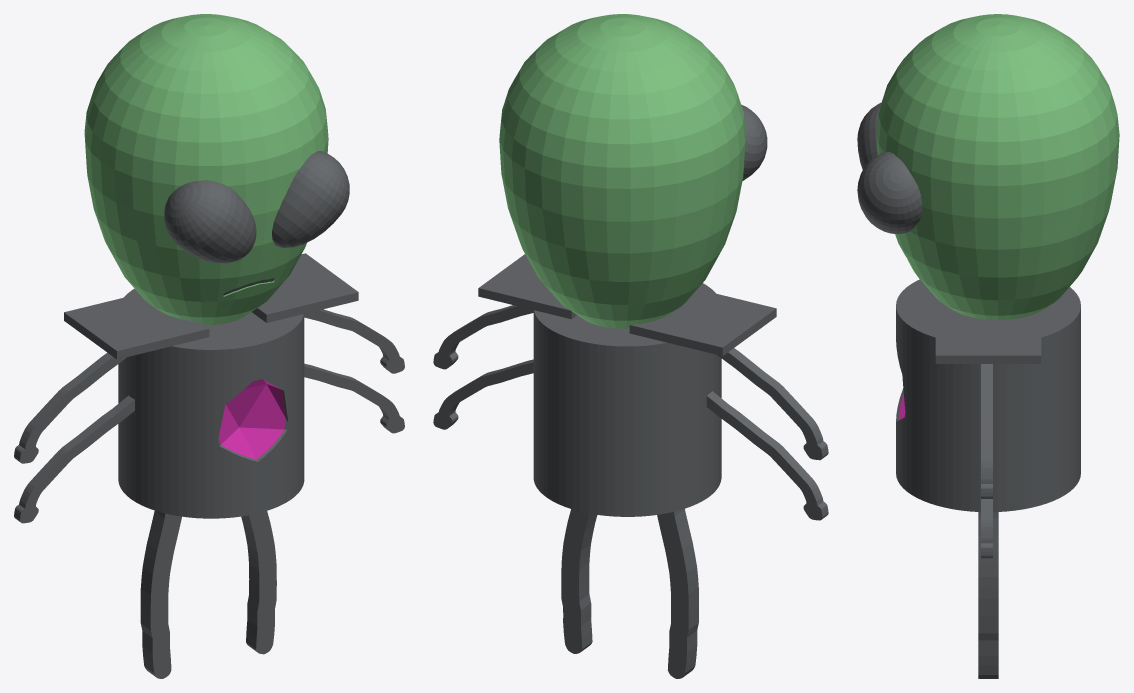
Rendered from alien2.glb.
The picture shows the model from 3 angles, left to right: view 1: azimuth 30°, elevation 25°; view 2: azimuth 150°, elevation 25°; view 3: azimuth 270°, elevation 25°; orthographic projection.
Parts seen in each view (by area): view 1: Mesh_Mesh_head_geo.001_lambert2SG.001; view 2: Mesh_Mesh_head_geo.001_lambert2SG.001; view 3: Mesh_Mesh_head_geo.001_lambert2SG.001.
Boxes of the visible parts, x1,y1,x2,y2 form: Mesh_Mesh_head_geo.001_lambert2SG.001: (14,14,404,678); Mesh_Mesh_head_geo.001_lambert2SG.001: (433,14,828,678); Mesh_Mesh_head_geo.001_lambert2SG.001: (857,14,1119,678).
Bounding box in the file's own units: 0.055 × 0.0865 × 0.0326.
